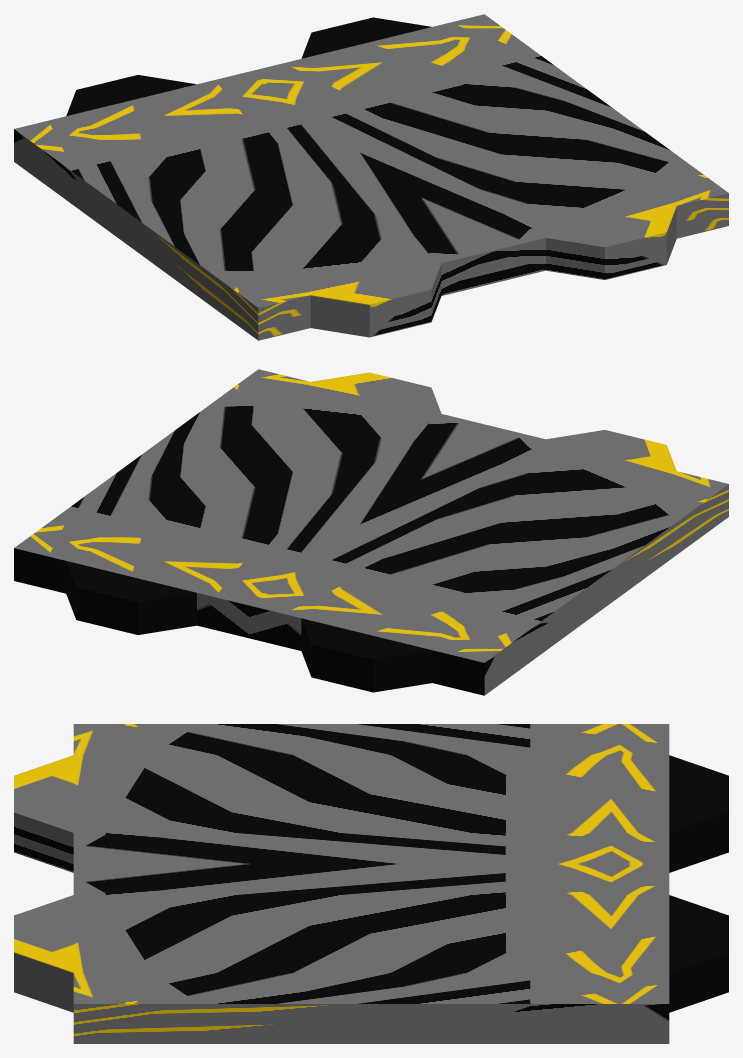
File: platform01.fbx
3 renders of one model, top to bottom at view 1: azimuth 30°, elevation 25°; view 2: azimuth 150°, elevation 25°; view 3: azimuth 270°, elevation 25°, orthographic. The views are drawn at different scales.
Visible parts, largest first — view 1: platform01; view 2: platform01; view 3: platform01.
Boxes of the visible parts, x1,y1,x2,y2 form: platform01: (14, 14, 728, 340); platform01: (14, 369, 728, 695); platform01: (14, 724, 728, 1043).
Bounding box in the file's own units: 3 × 0.2 × 3.24.
